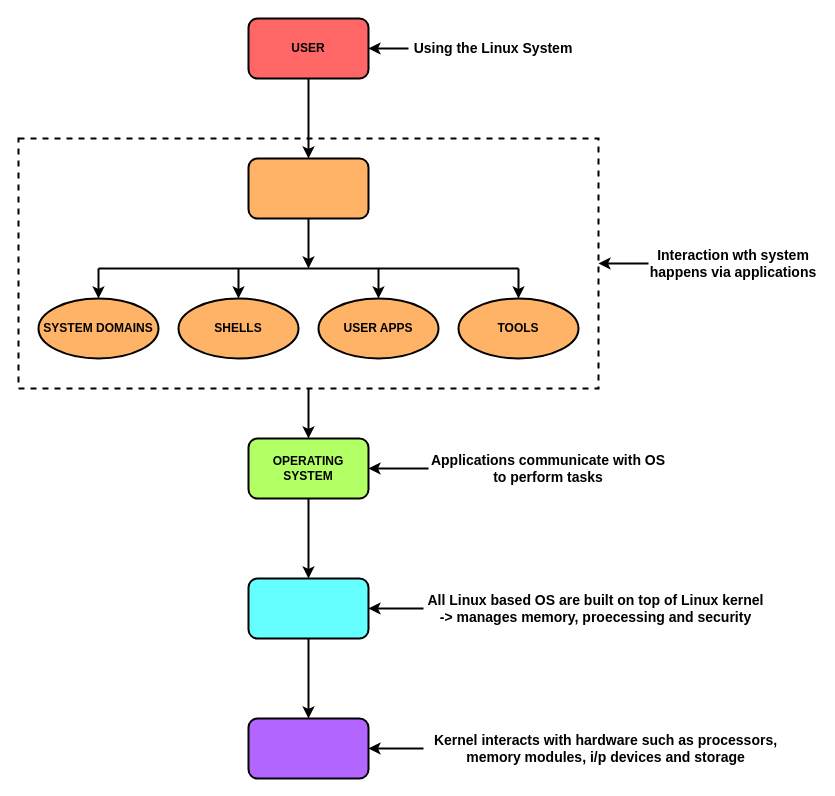
Image size: 835x796. Some labels were removed from this diagram. The shapes that lost their labels are listed below. From the top down, each one's centre as x and y in pixels, then its label:
the point at 308,188: APPLICATION
the point at 308,608: KERNEL
the point at 308,748: HARDWARE
